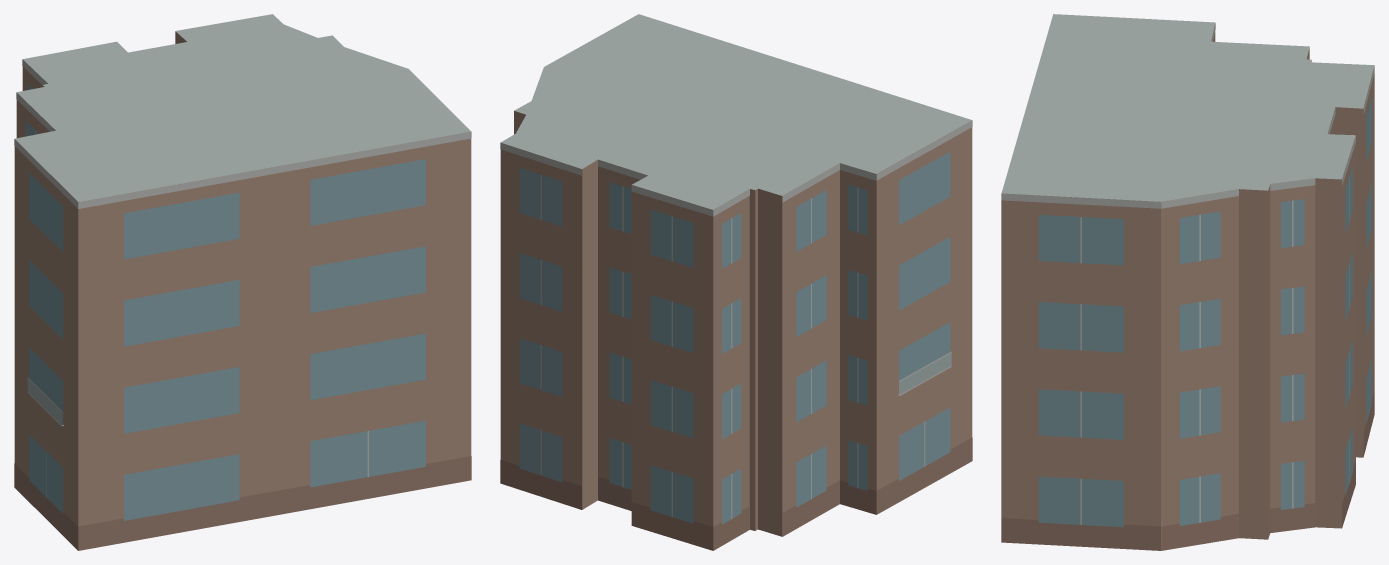
File: survey-upis-32956189.glb
The picture shows the model from 3 angles, left to right: view 1: azimuth 30°, elevation 25°; view 2: azimuth 150°, elevation 25°; view 3: azimuth 270°, elevation 25°; orthographic projection. The views are drawn at different scales.
Parts seen in each view (by area): view 1: survey-upis-32956189.tmp; view 2: survey-upis-32956189.tmp; view 3: survey-upis-32956189.tmp.
Boxes of the visible parts, x1,y1,x2,y2 form: survey-upis-32956189.tmp: [14, 14, 471, 550]; survey-upis-32956189.tmp: [500, 14, 972, 550]; survey-upis-32956189.tmp: [1001, 14, 1374, 550].
Bounding box in the file's own units: 14.2 × 12.3 × 11.93.
